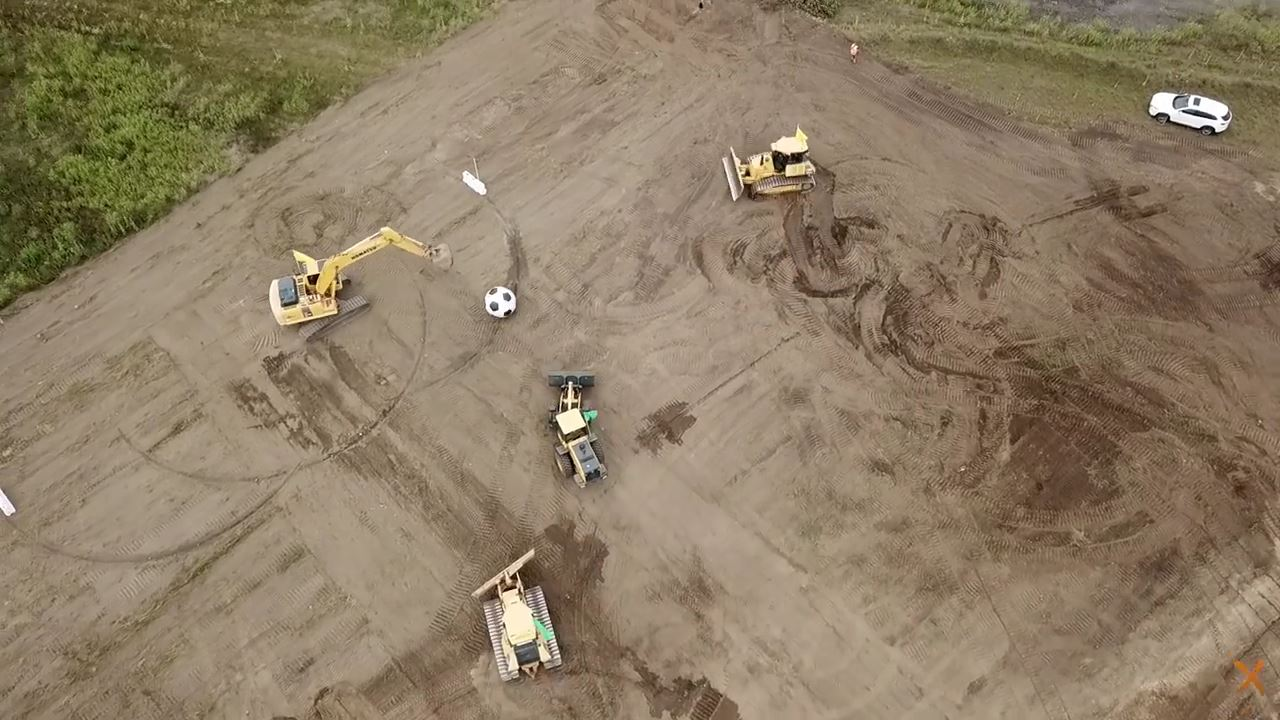con_eq: (260, 218, 451, 344), (468, 545, 569, 689), (538, 361, 611, 490), (718, 123, 821, 206)
